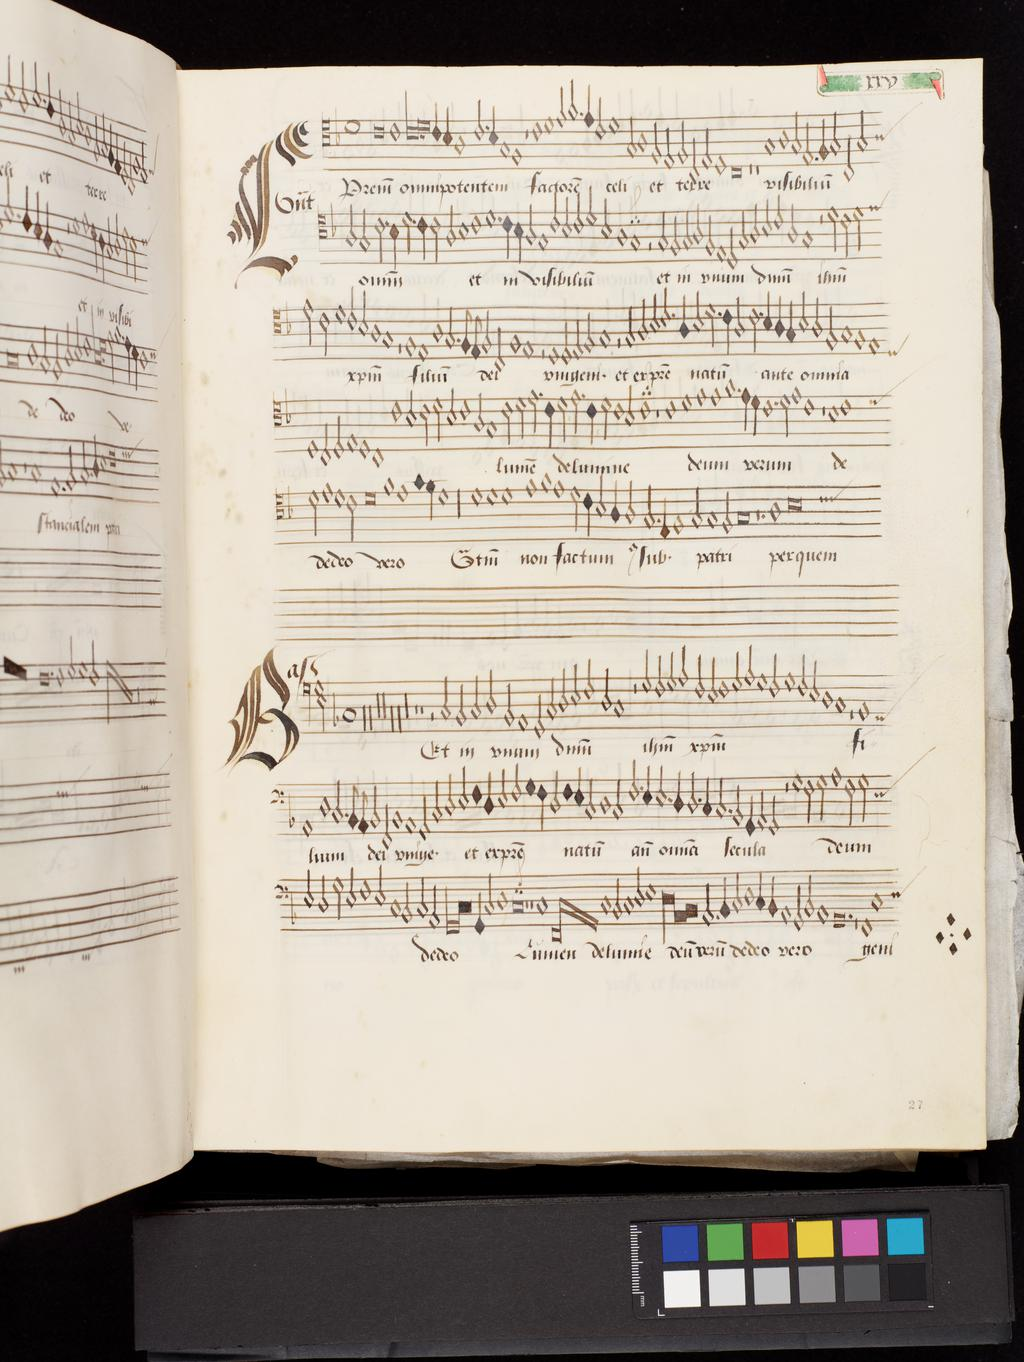c clef_5: (269, 387, 286, 437)
congruence: (639, 375, 654, 398)
custos_4: (865, 381, 893, 415)
flat_6: (282, 386, 295, 430)
minim_11: (330, 408, 346, 462)
minim_12: (321, 416, 335, 468)
minim_3: (526, 383, 542, 439), (566, 384, 581, 440)
minim_4: (430, 389, 446, 445), (512, 391, 528, 441), (779, 386, 793, 441), (598, 392, 613, 442), (556, 391, 570, 443)
minim_5: (418, 394, 433, 449), (499, 393, 512, 449)
minim_6: (443, 383, 459, 430), (404, 384, 419, 432), (624, 384, 638, 432)
minim_7: (471, 387, 486, 438)
point: (731, 381, 744, 396), (769, 396, 781, 412), (535, 387, 544, 402), (577, 388, 586, 403)
semibreve rest: (652, 384, 662, 449), (817, 381, 827, 445)
semibreve_10: (346, 427, 361, 455)
semibreve_11: (305, 432, 321, 467), (357, 432, 372, 465)
semibreve_12: (370, 439, 389, 473)
semibreve_2: (723, 377, 738, 402)
semibreve_3: (790, 388, 815, 413), (708, 383, 724, 414), (693, 384, 708, 412), (790, 383, 803, 408)
semibreve_4: (678, 385, 695, 417)
semibreve_5: (662, 393, 680, 425), (389, 394, 406, 427), (838, 393, 855, 421), (759, 392, 774, 423), (637, 395, 653, 424), (458, 394, 473, 424), (801, 394, 816, 422), (613, 396, 625, 424)
semibreve_6: (827, 400, 841, 428)
semibreve_8: (484, 415, 499, 443)
semiminim_3: (740, 383, 752, 437)
semiminim_4: (749, 389, 760, 442)
semiminim_5: (543, 395, 557, 453), (584, 397, 599, 450)
